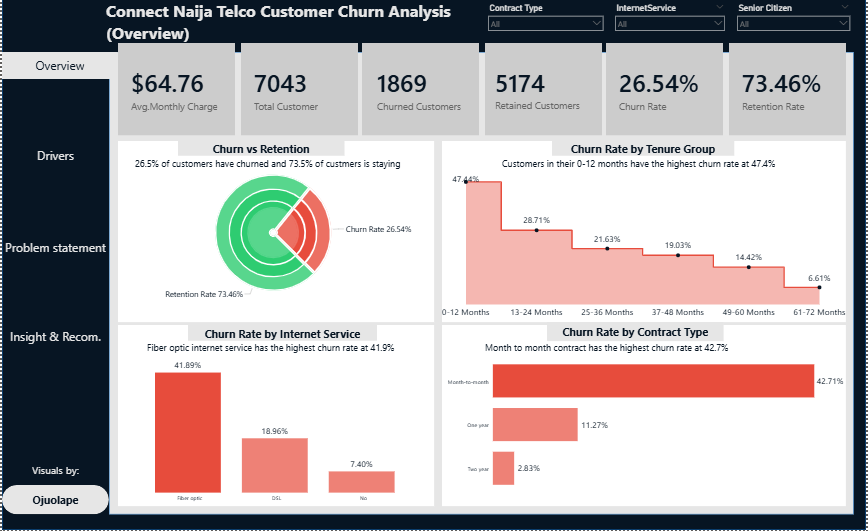

What the dashboard file says about the page in this screenshot:
{"tool":"powerbi","page":{"name":"Page 1","canvas":[1280,720],"ordinal":0},"visuals":[{"type":"cardVisual","fields":{"Data":["WA_Fn-UseC_-Telco-Customer-Churn.Avg.Monthly Charge"]},"box":[126,75.6,211.7,127.7],"z":0},{"type":"cardVisual","fields":{"Data":["WA_Fn-UseC_-Telco-Customer-Churn.Churn Rate"]},"box":[863.4,73.9,196.5,120.9],"z":1000},{"type":"cardVisual","fields":{"Data":["WA_Fn-UseC_-Telco-Customer-Churn.Churned Customers"]},"box":[502.3,77.3,198.2,114.2],"z":2000},{"type":"cardVisual","fields":{"Data":["WA_Fn-UseC_-Telco-Customer-Churn.Retained Customers"]},"box":[677,70.6,233.5,127.7],"z":3000},{"type":"cardVisual","fields":{"Data":["WA_Fn-UseC_-Telco-Customer-Churn.Retention Rate"]},"box":[1038.1,80.6,208.3,114.2],"z":4000},{"type":"cardVisual","fields":{"Data":["WA_Fn-UseC_-Telco-Customer-Churn.Total Customer"]},"box":[325.9,80.6,171.3,117.6],"z":5000},{"type":"donutChart","fields":{"Y":["WA_Fn-UseC_-Telco-Customer-Churn.Churn Rate","WA_Fn-UseC_-Telco-Customer-Churn.Retention Rate"]},"box":[193.2,272.1,389.7,114.2],"z":6000},{"type":"barChart","fields":{"Category":["WA_Fn-UseC_-Telco-Customer-Churn.Contract"],"Y":["WA_Fn-UseC_-Telco-Customer-Churn.Churn Rate"]},"box":[640,480.4,591.3,221.7],"z":7000},{"type":"areaChart","fields":{"Category":["WA_Fn-UseC_-Telco-Customer-Churn.Tenure group"],"Y":["WA_Fn-UseC_-Telco-Customer-Churn.Churn Rate"]},"box":[640,245.2,586.2,189.8],"z":8000},{"type":"clusteredColumnChart","fields":{"Y":["WA_Fn-UseC_-Telco-Customer-Churn.Churn Rate"],"Category":["WA_Fn-UseC_-Telco-Customer-Churn.InternetService"]},"box":[151.2,480.4,477.1,210],"z":9000},{"type":"donutChart","fields":{"Y":["WA_Fn-UseC_-Telco-Customer-Churn.Churn Rate","WA_Fn-UseC_-Telco-Customer-Churn.Retention Rate"]},"box":[126,221.7,524.1,213.3],"z":10000},{"type":"donutChart","fields":{"Y":["WA_Fn-UseC_-Telco-Customer-Churn.Churn Rate","WA_Fn-UseC_-Telco-Customer-Churn.Retention Rate"]},"box":[149.5,250.3,477.1,157.9],"z":11000},{"type":"shape","box":[139.4,0,598,73.9],"z":12000},{"type":"slicer","fields":{"Values":["WA_Fn-UseC_-Telco-Customer-Churn.Contract"]},"box":[749.2,10.1,166.3,79],"z":13000},{"type":"slicer","fields":{"Values":["WA_Fn-UseC_-Telco-Customer-Churn.InternetService"]},"box":[913.8,10.1,171.3,70.6],"z":14000},{"type":"slicer","fields":{"Values":["WA_Fn-UseC_-Telco-Customer-Churn.Senior Citizen"]},"box":[1080.1,10.1,183.1,75.6],"z":15000},{"type":"shape","box":[0,80.6,126,58.8],"z":16000},{"type":"shape","box":[0,213.3,126,58.8],"z":17000},{"type":"shape","box":[0,322.5,126,58.8],"z":18000},{"type":"shape","box":[0,443.5,126,58.8],"z":19000},{"type":"shape","box":[0,638.3,126,63.8],"z":20000},{"type":"shape","box":[0,587.9,126,63.8],"z":21000},{"type":"shape","box":[294,206.6,203.3,26.9],"z":22000},{"type":"shape","box":[799.6,441.8,268.8,28.6],"z":23000},{"type":"shape","box":[724,458.6,441.8,45.4],"z":24000},{"type":"shape","box":[811.3,206.6,268.8,28.6],"z":25000},{"type":"shape","box":[713.9,220.1,463.6,48.7],"z":26000},{"type":"shape","box":[151.2,408.2,488.8,52.1],"z":27000},{"type":"shape","box":[250.3,435.1,292.3,30.2],"z":28000},{"type":"shape","box":[174.7,456.9,441.8,45.4],"z":29000}]}

Visuals, with their boxes on the page's 1280x720 design canvas (x1, y1, x2, y2). These are canvas units, not pixel positions in the 868x531 screenshot, which may show the page scaled, cropped or inside an application window:
cardVisual - WA_Fn-UseC_-Telco-Customer-Churn.Avg.Monthly Charge: box=[126, 76, 338, 203]
cardVisual - WA_Fn-UseC_-Telco-Customer-Churn.Churn Rate: box=[863, 74, 1060, 195]
cardVisual - WA_Fn-UseC_-Telco-Customer-Churn.Churned Customers: box=[502, 77, 700, 192]
cardVisual - WA_Fn-UseC_-Telco-Customer-Churn.Retained Customers: box=[677, 71, 910, 198]
cardVisual - WA_Fn-UseC_-Telco-Customer-Churn.Retention Rate: box=[1038, 81, 1246, 195]
cardVisual - WA_Fn-UseC_-Telco-Customer-Churn.Total Customer: box=[326, 81, 497, 198]
donutChart - WA_Fn-UseC_-Telco-Customer-Churn.Churn Rate x WA_Fn-UseC_-Telco-Customer-Churn.Retention Rate: box=[193, 272, 583, 386]
barChart - WA_Fn-UseC_-Telco-Customer-Churn.Contract x WA_Fn-UseC_-Telco-Customer-Churn.Churn Rate: box=[640, 480, 1231, 702]
areaChart - WA_Fn-UseC_-Telco-Customer-Churn.Tenure group x WA_Fn-UseC_-Telco-Customer-Churn.Churn Rate: box=[640, 245, 1226, 435]
clusteredColumnChart - WA_Fn-UseC_-Telco-Customer-Churn.Churn Rate x WA_Fn-UseC_-Telco-Customer-Churn.InternetService: box=[151, 480, 628, 690]
donutChart - WA_Fn-UseC_-Telco-Customer-Churn.Churn Rate x WA_Fn-UseC_-Telco-Customer-Churn.Retention Rate: box=[126, 222, 650, 435]
donutChart - WA_Fn-UseC_-Telco-Customer-Churn.Churn Rate x WA_Fn-UseC_-Telco-Customer-Churn.Retention Rate: box=[150, 250, 627, 408]
shape: box=[139, 0, 737, 74]
slicer - WA_Fn-UseC_-Telco-Customer-Churn.Contract: box=[749, 10, 916, 89]
slicer - WA_Fn-UseC_-Telco-Customer-Churn.InternetService: box=[914, 10, 1085, 81]
slicer - WA_Fn-UseC_-Telco-Customer-Churn.Senior Citizen: box=[1080, 10, 1263, 86]
shape: box=[0, 81, 126, 139]
shape: box=[0, 213, 126, 272]
shape: box=[0, 322, 126, 381]
shape: box=[0, 444, 126, 502]
shape: box=[0, 638, 126, 702]
shape: box=[0, 588, 126, 652]
shape: box=[294, 207, 497, 234]
shape: box=[800, 442, 1068, 470]
shape: box=[724, 459, 1166, 504]
shape: box=[811, 207, 1080, 235]
shape: box=[714, 220, 1178, 269]
shape: box=[151, 408, 640, 460]
shape: box=[250, 435, 543, 465]
shape: box=[175, 457, 616, 502]
